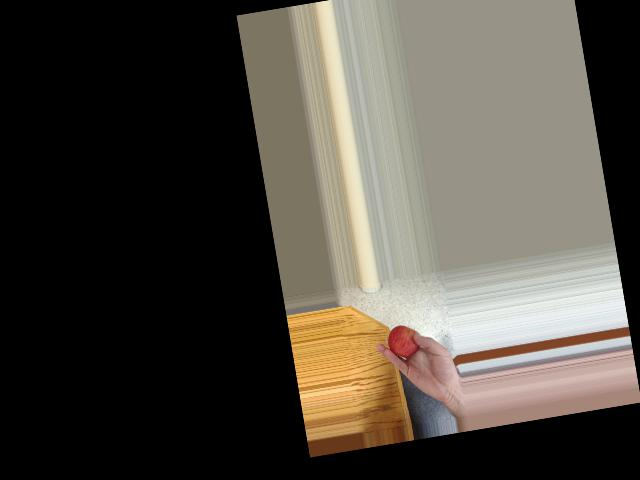apple: (386, 321, 425, 363)
